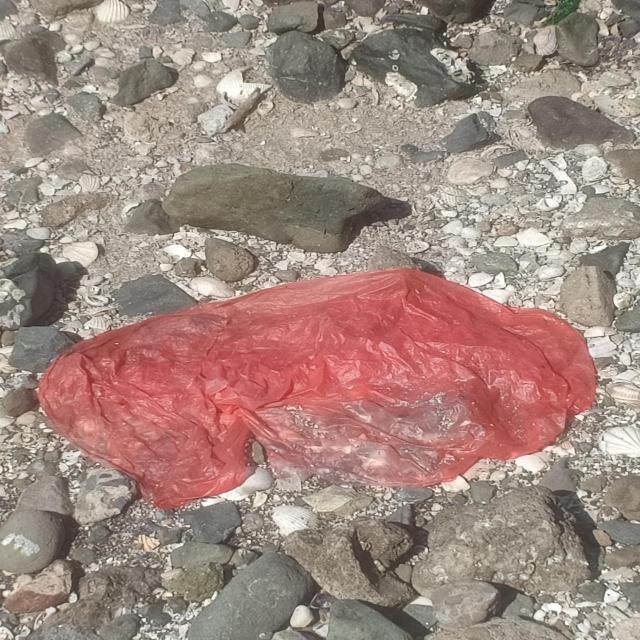plastic_waste: (35, 267, 599, 512)
